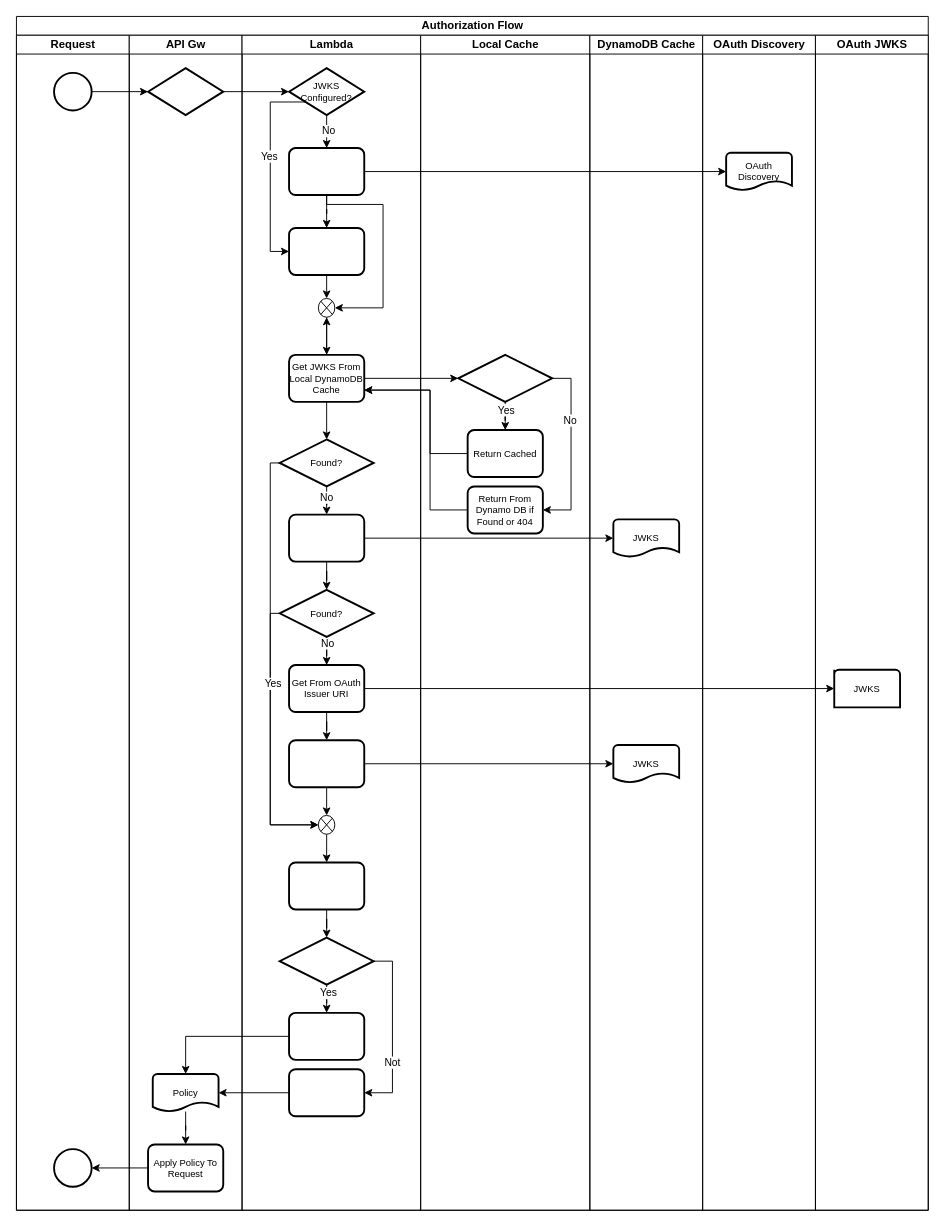
This 945x1227 diagram has some shape labels left out. The centre of each missing label's shape, as x and y in pixels:
Auth Required?: the point at 185,91
Generate ALLOW Access Policy Document: the point at 326,1035
Generate DENY Access Policy Document: the point at 326,1092
Get From DynamoDB: the point at 326,537
Get JWKS From Config: the point at 326,251
Get JWKS From Issuer OAuth Discovery: the point at 326,171
Get key from JWKS and Decode Token: the point at 326,885
In Local Cache & Not Expired: the point at 505,377
Store in DynamoDB: the point at 326,763
Valid Token?: the point at 326,960
